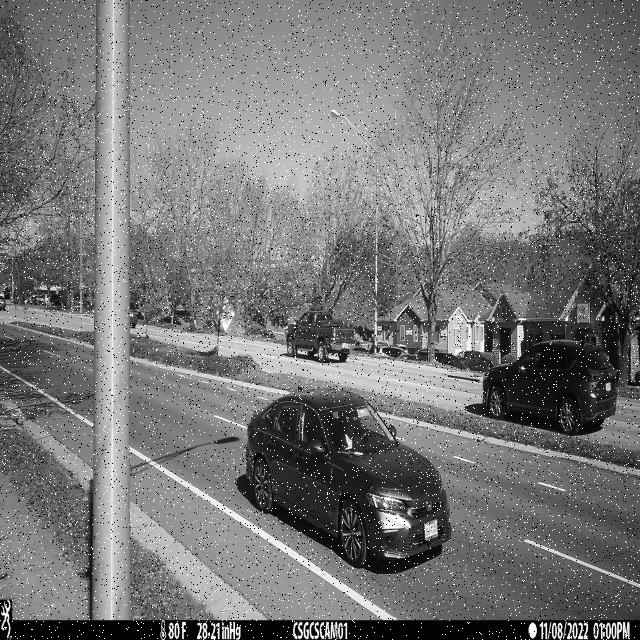Sedan: (245, 386, 452, 568)
